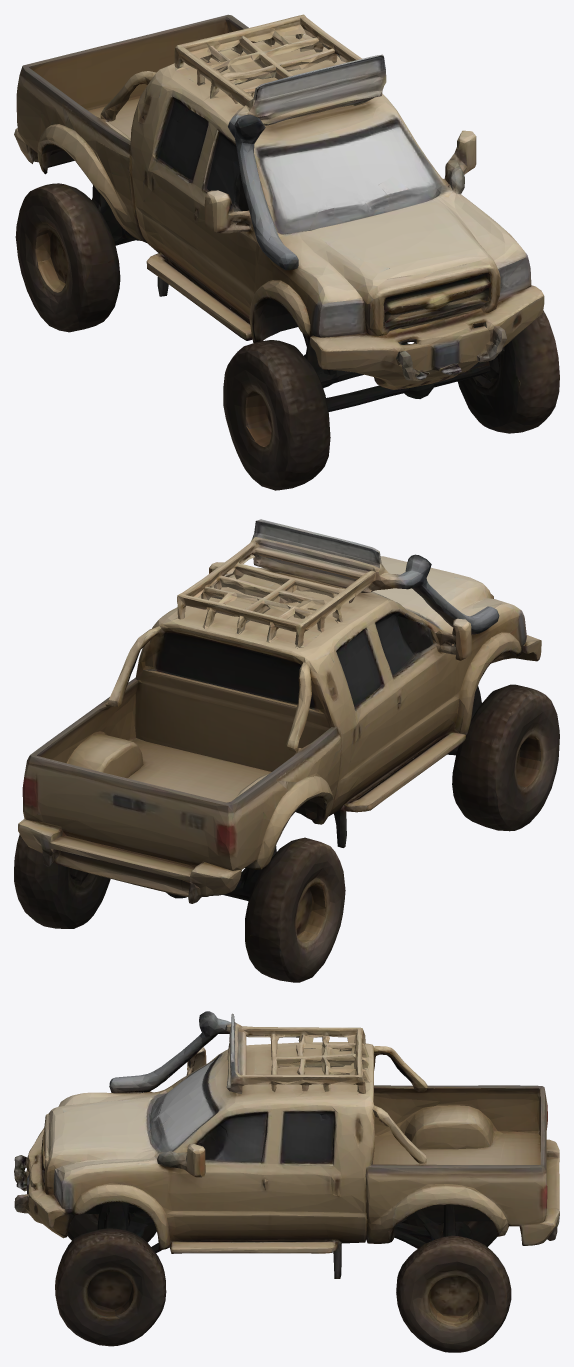
3 renders of one model, top to bottom at view 1: azimuth 30°, elevation 25°; view 2: azimuth 150°, elevation 25°; view 3: azimuth 270°, elevation 25°, orthographic. The views are drawn at different scales.
Visible parts, largest first — view 1: geometry_0; view 2: geometry_0; view 3: geometry_0.
Boxes of the visible parts, x1,y1,x2,y2 form: geometry_0: (14,14,559,490); geometry_0: (14,519,559,982); geometry_0: (14,1011,559,1352).
Bounding box in the file's own units: 0.4911 × 0.5336 × 0.9969.
1 material, 1 textured.
